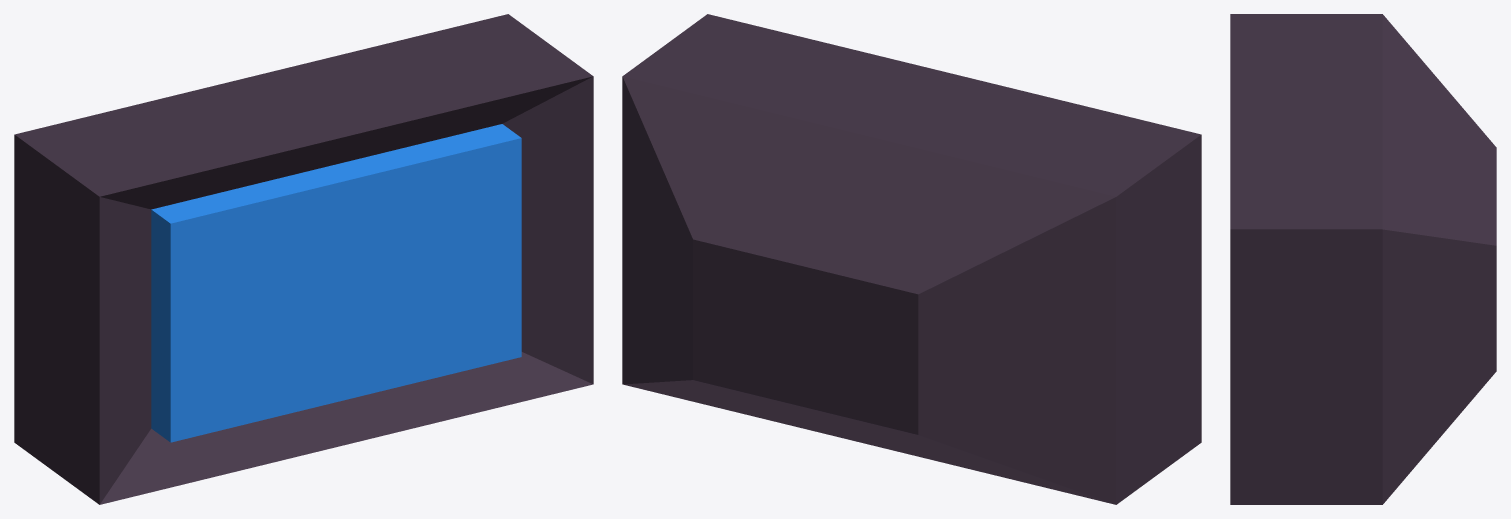
File: Tele.fbx
3 views of the same model, side by side, from view 1: azimuth 30°, elevation 25°; view 2: azimuth 150°, elevation 25°; view 3: azimuth 270°, elevation 25° (orthographic). The views are drawn at different scales.
Visible parts, largest first — view 1: Cube.004, Cube.005; view 2: Cube.004; view 3: Cube.004.
Boxes of the visible parts, left/top/right/bottom form: Cube.004: left=14, top=14, right=593, bottom=504; Cube.005: left=151, top=124, right=521, bottom=442; Cube.004: left=622, top=14, right=1201, bottom=504; Cube.004: left=1230, top=14, right=1496, bottom=504.
Bounding box in the file's own units: 762 × 454 × 398.
